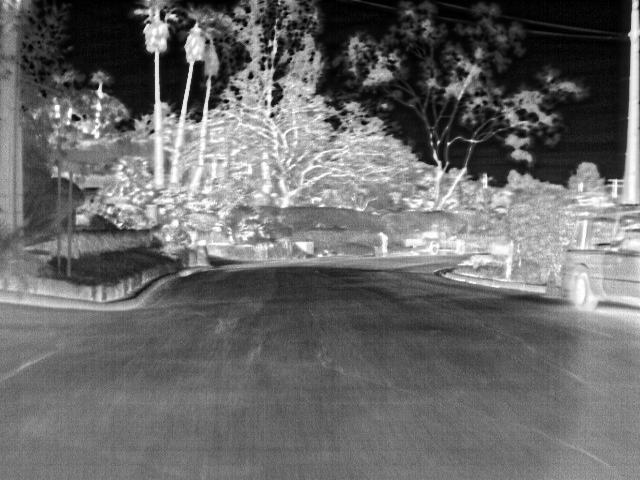car: (564, 224, 640, 311), (405, 230, 465, 256)
person: (378, 231, 390, 255)
